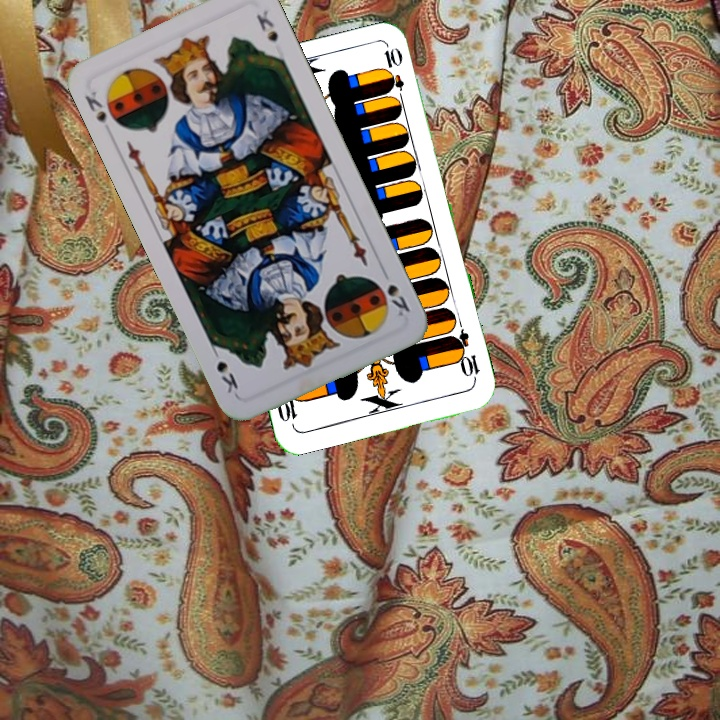E10: (448, 326, 483, 384)
SK: (377, 264, 413, 319), (81, 87, 109, 125)
